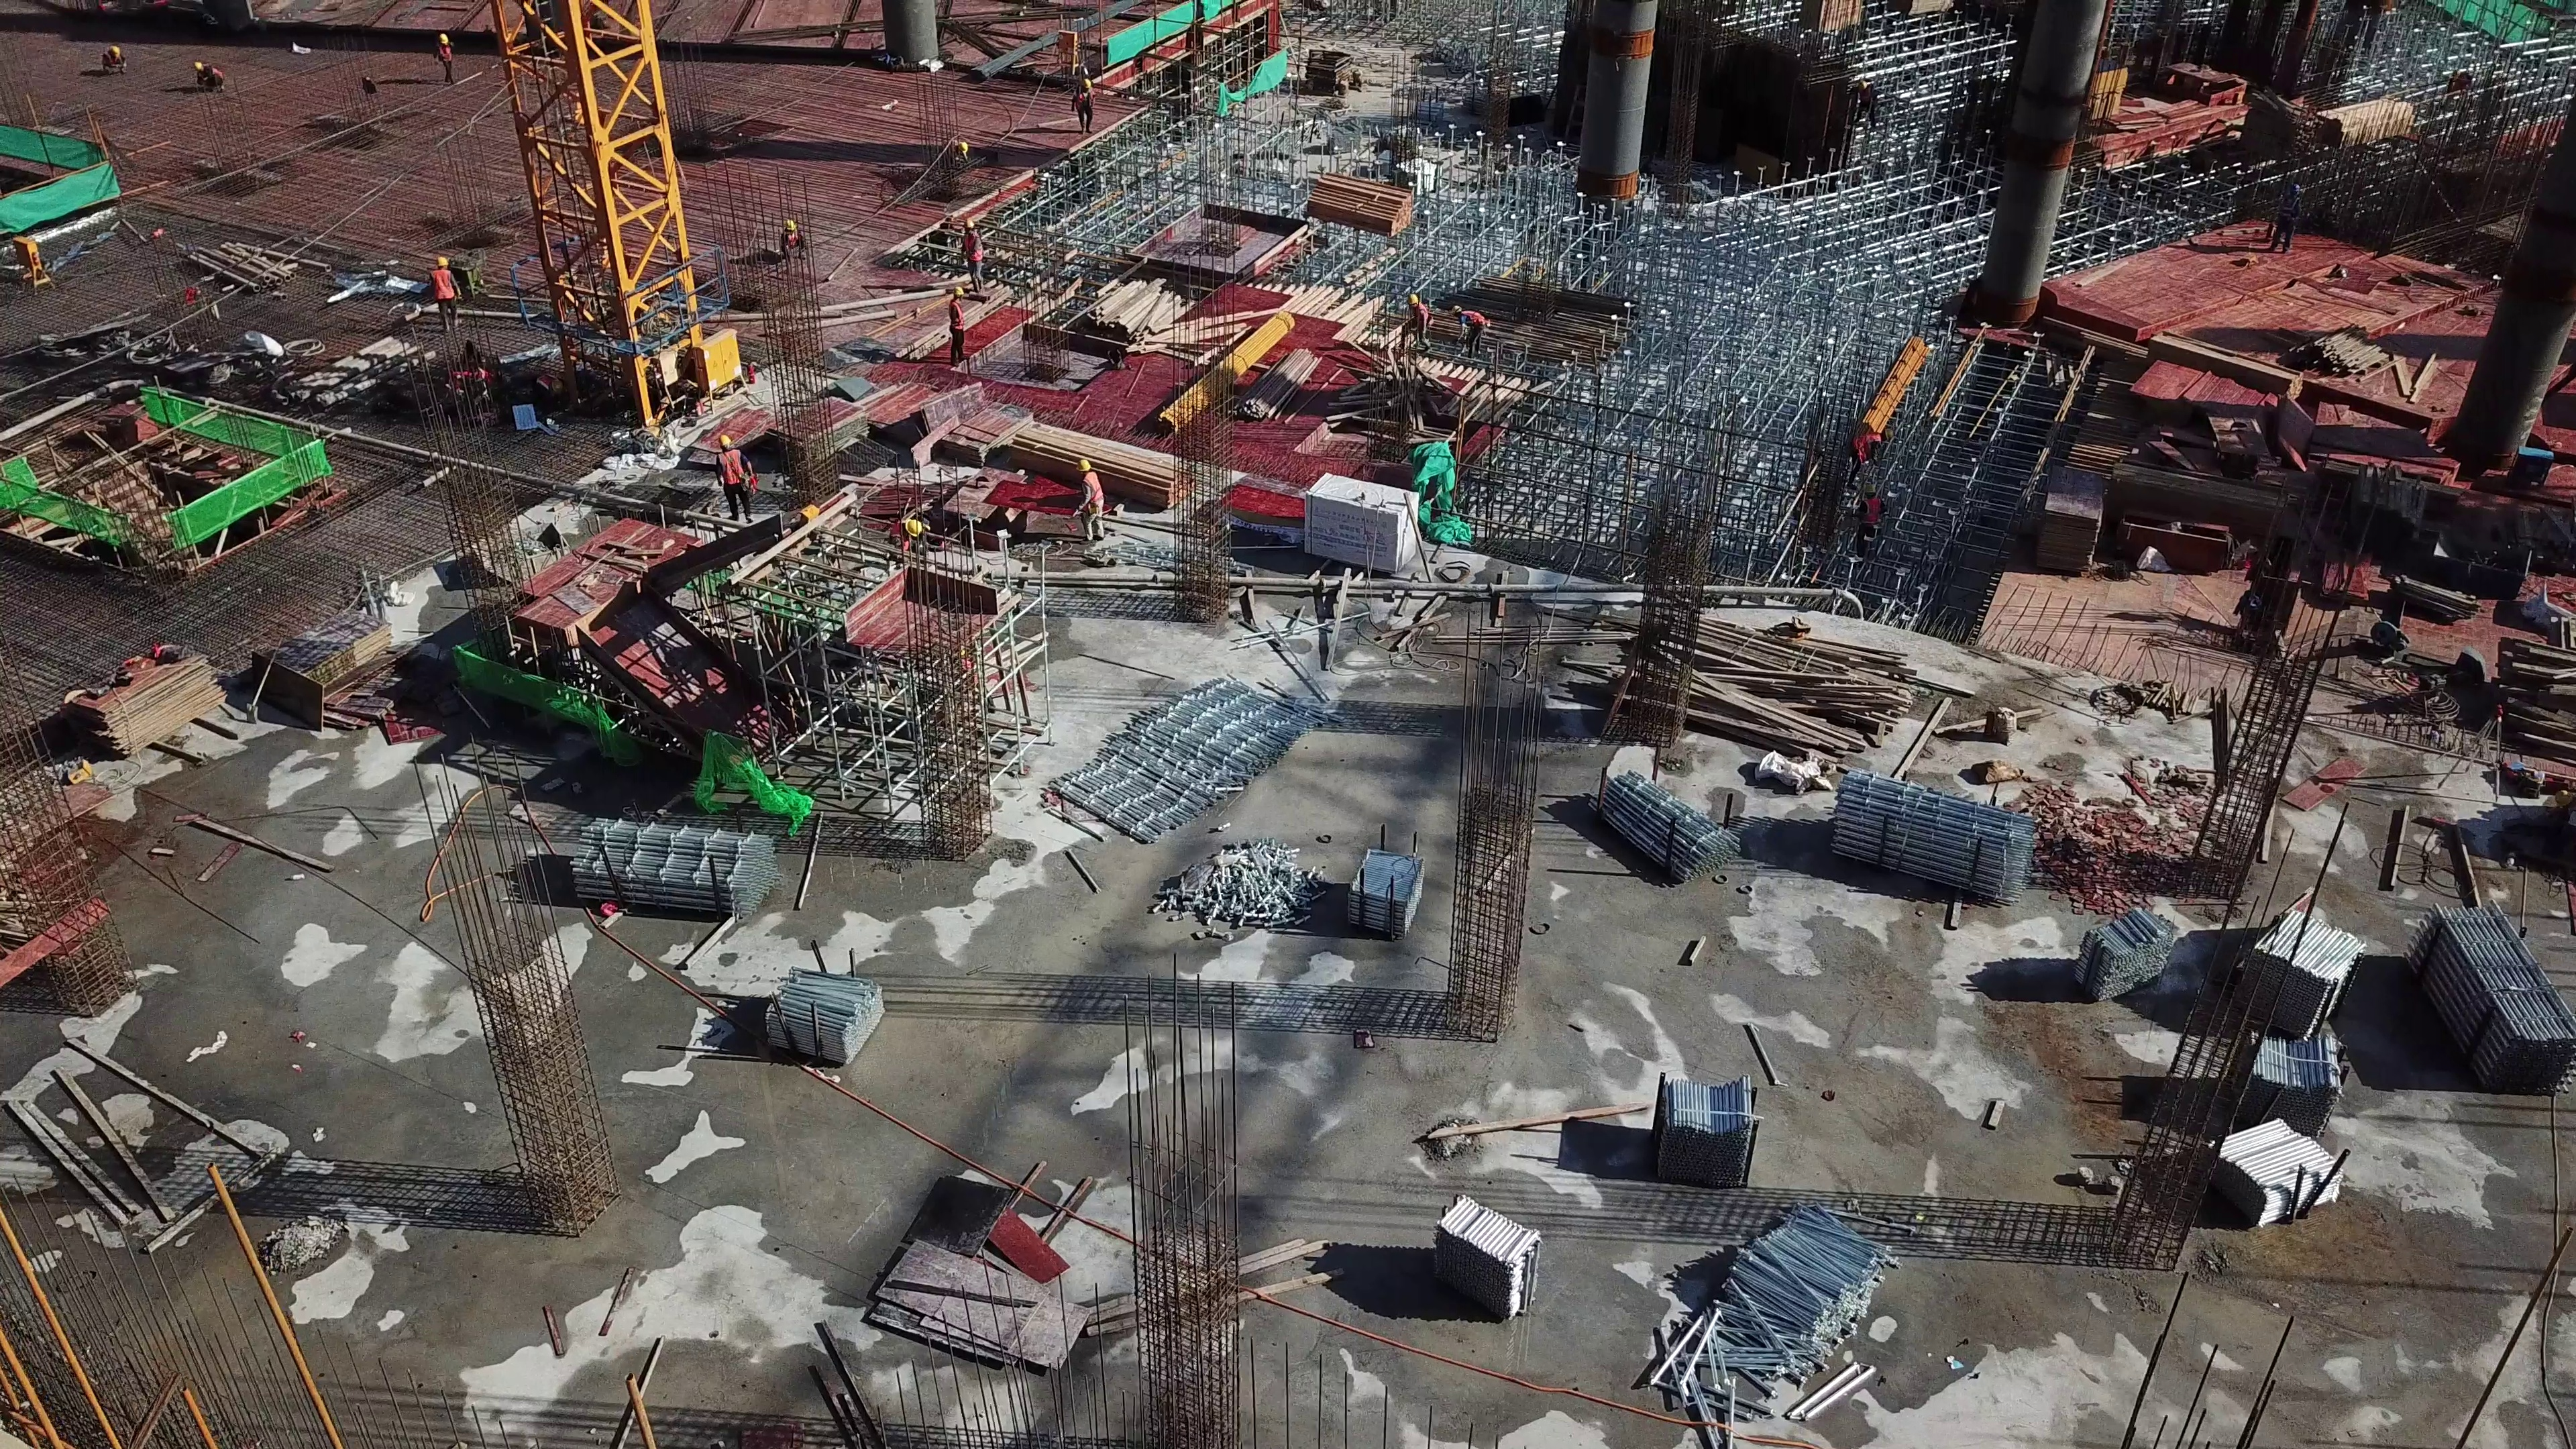board: (72, 640, 230, 762), (268, 616, 382, 724), (2035, 453, 2102, 573)
ebox: (686, 324, 751, 407), (8, 231, 36, 293)
person: (1071, 453, 1110, 572), (714, 427, 758, 523), (939, 272, 983, 368), (1403, 278, 1444, 360), (425, 252, 464, 333), (957, 216, 996, 286), (429, 22, 465, 95), (1069, 61, 1102, 138), (1453, 293, 1491, 358), (770, 208, 810, 269), (942, 131, 973, 193), (890, 523, 932, 561), (191, 56, 227, 92), (101, 35, 129, 82)
scaffold: (1648, 1205, 1919, 1439), (2435, 890, 2576, 1155), (1082, 675, 1289, 820), (1831, 765, 2015, 911), (1417, 1177, 1554, 1340), (537, 818, 773, 905), (2216, 1108, 2345, 1240), (1633, 1063, 1782, 1177), (2229, 907, 2359, 1021), (1601, 762, 1715, 888), (770, 963, 881, 1065), (1342, 835, 1423, 949), (2091, 894, 2173, 998), (2235, 1031, 2345, 1108)
wood: (1611, 601, 1919, 751), (1012, 412, 1190, 508), (2304, 307, 2453, 412), (2098, 458, 2294, 531), (2496, 631, 2576, 775), (1076, 266, 1201, 351), (2304, 82, 2418, 156), (2353, 459, 2429, 564), (1303, 177, 1417, 241)
